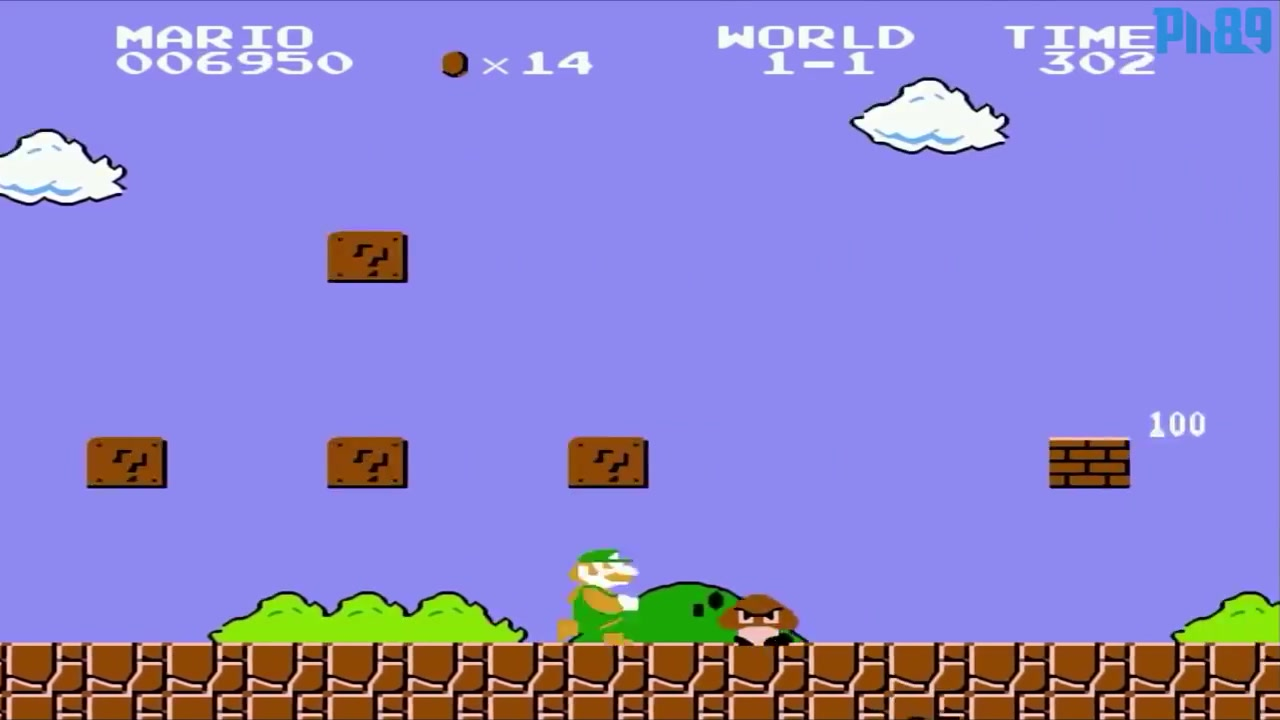mario: (554, 534, 645, 644)
